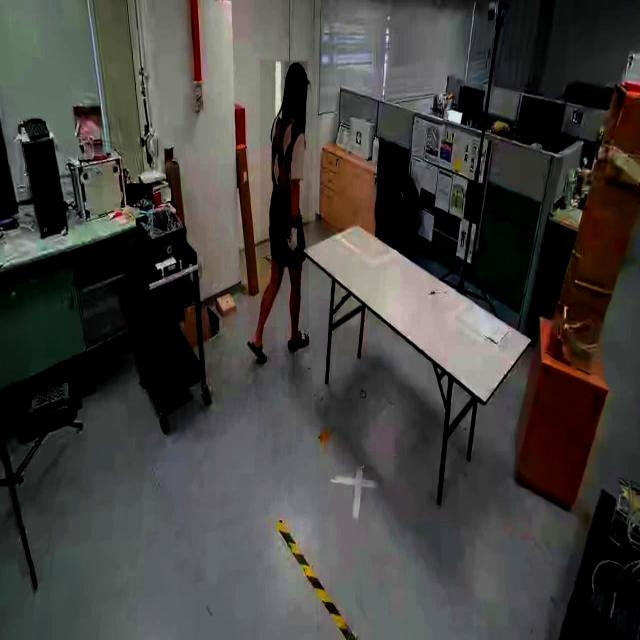hand_glove: (281, 215, 303, 258)
head_nohelmet: (284, 61, 308, 81)
person: (260, 59, 310, 353)
